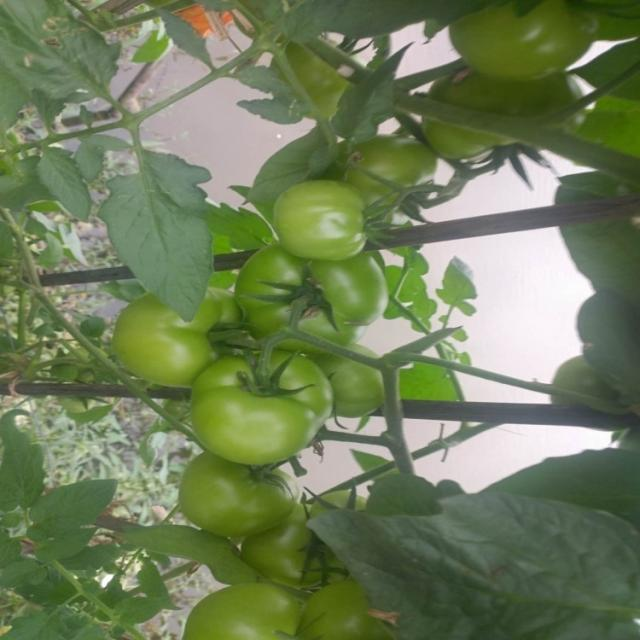tomato: (192, 345, 339, 473), (412, 66, 599, 159), (116, 282, 238, 401), (240, 253, 380, 352), (180, 454, 304, 555), (455, 3, 603, 80), (324, 125, 441, 215), (262, 177, 381, 265), (177, 577, 317, 640), (249, 507, 345, 587), (271, 43, 353, 119), (309, 566, 378, 640), (324, 355, 393, 417)
